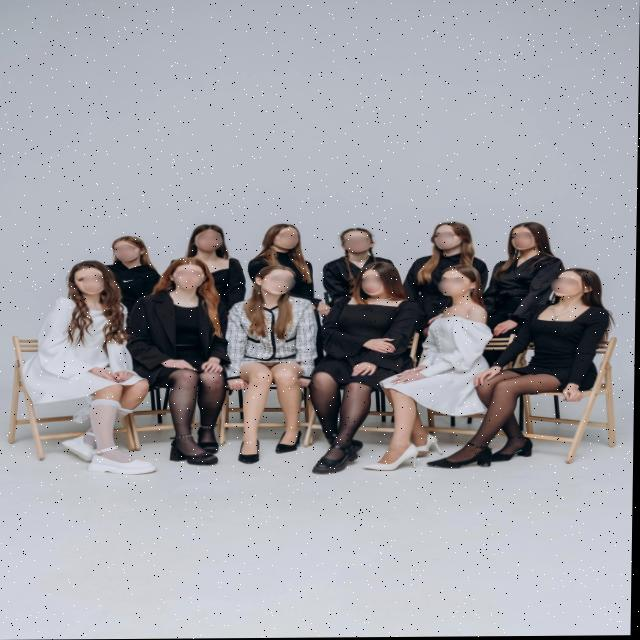Person: (422, 269, 625, 479), (39, 262, 162, 488), (367, 268, 501, 473), (299, 260, 416, 488), (223, 272, 320, 470), (163, 261, 233, 472), (486, 215, 576, 339), (251, 215, 321, 305), (102, 229, 171, 316), (400, 217, 484, 280), (184, 224, 261, 291), (321, 222, 385, 301)
